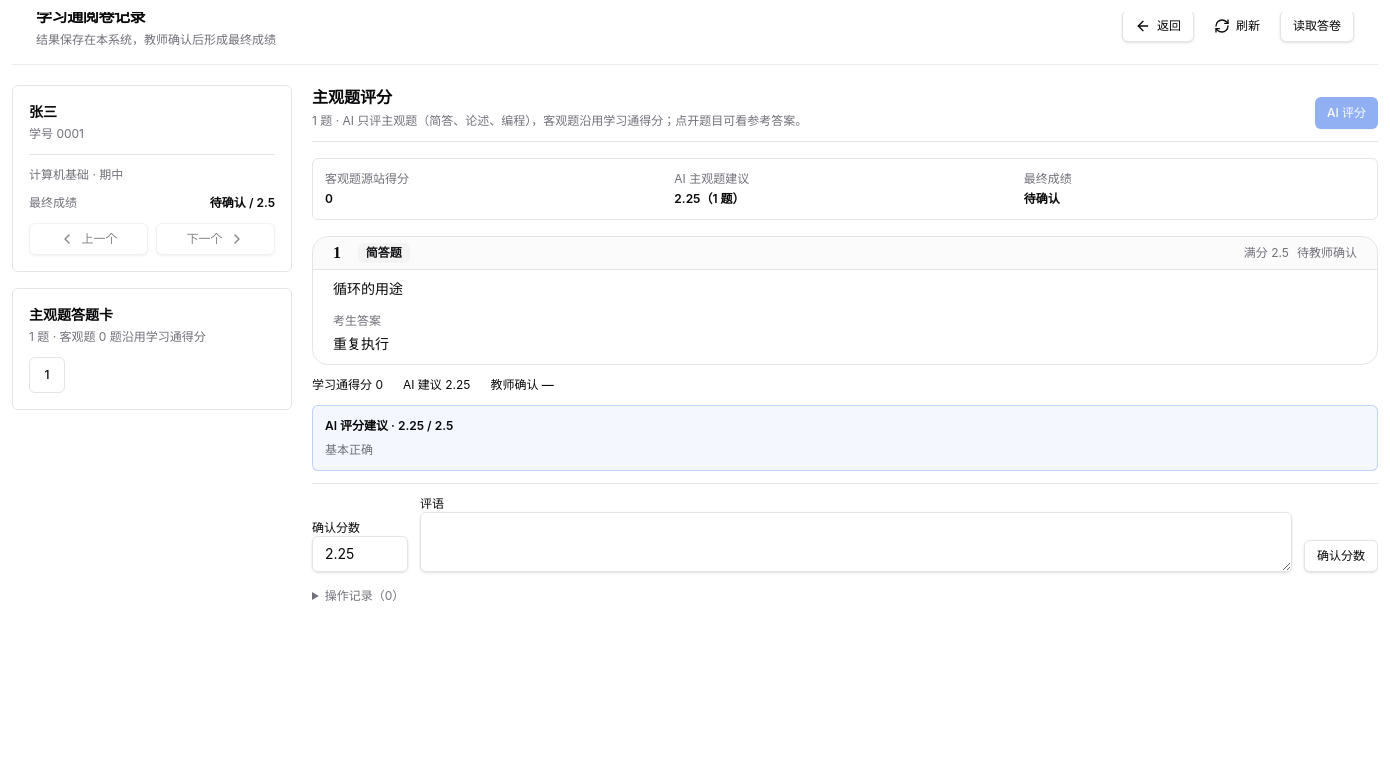
Test: 学习通结果复核 › 不依赖源站会话显示结果，小数确认分保存后才形成最终成绩
The width and height of the screenshot is (1390, 780).
Expected: the element labelled "最终成绩" shows "待确认", [1024,191,1060,206]
Replace the text in the number field named "第 1 题确认分数" with "2.4" at (360, 554), box [312,536,408,572]
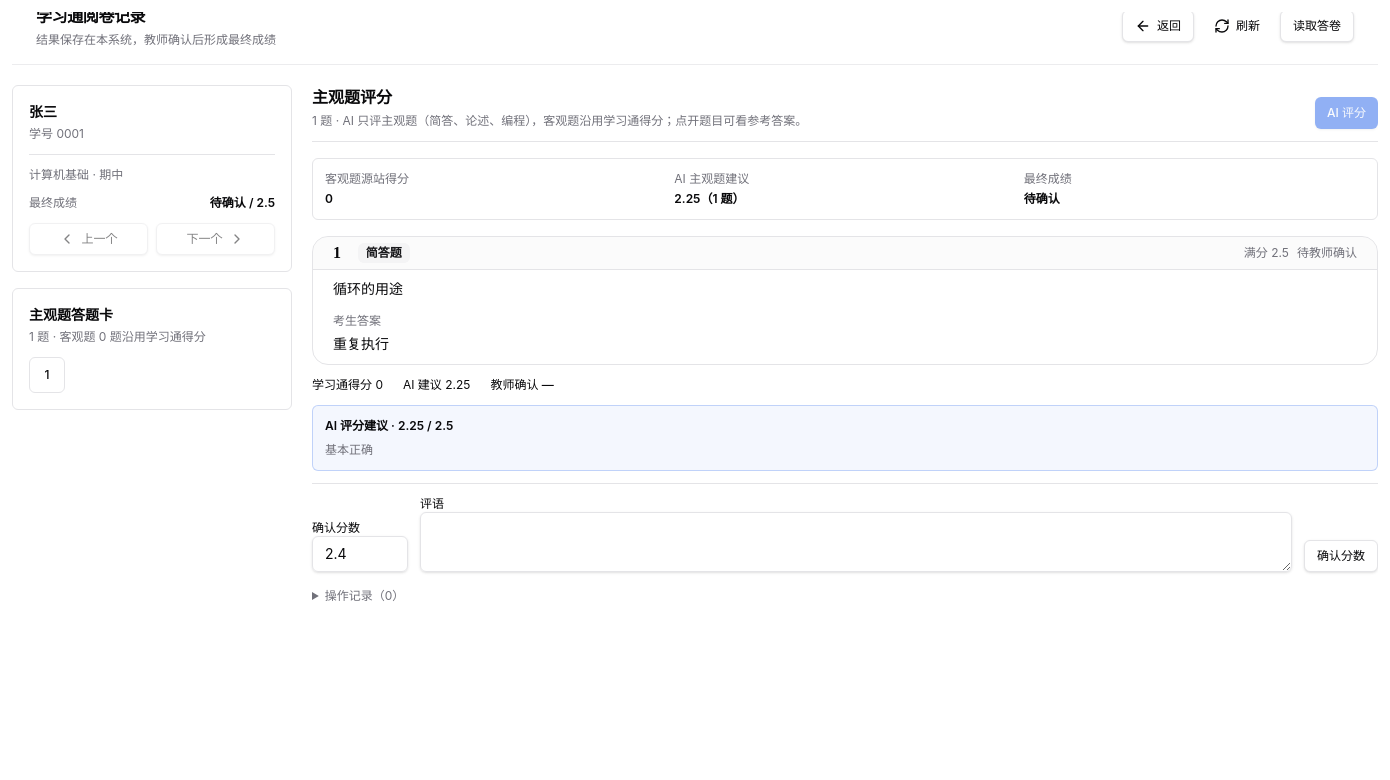
Click the button "确认分数" at (1341, 556), box [1304,540,1378,572]
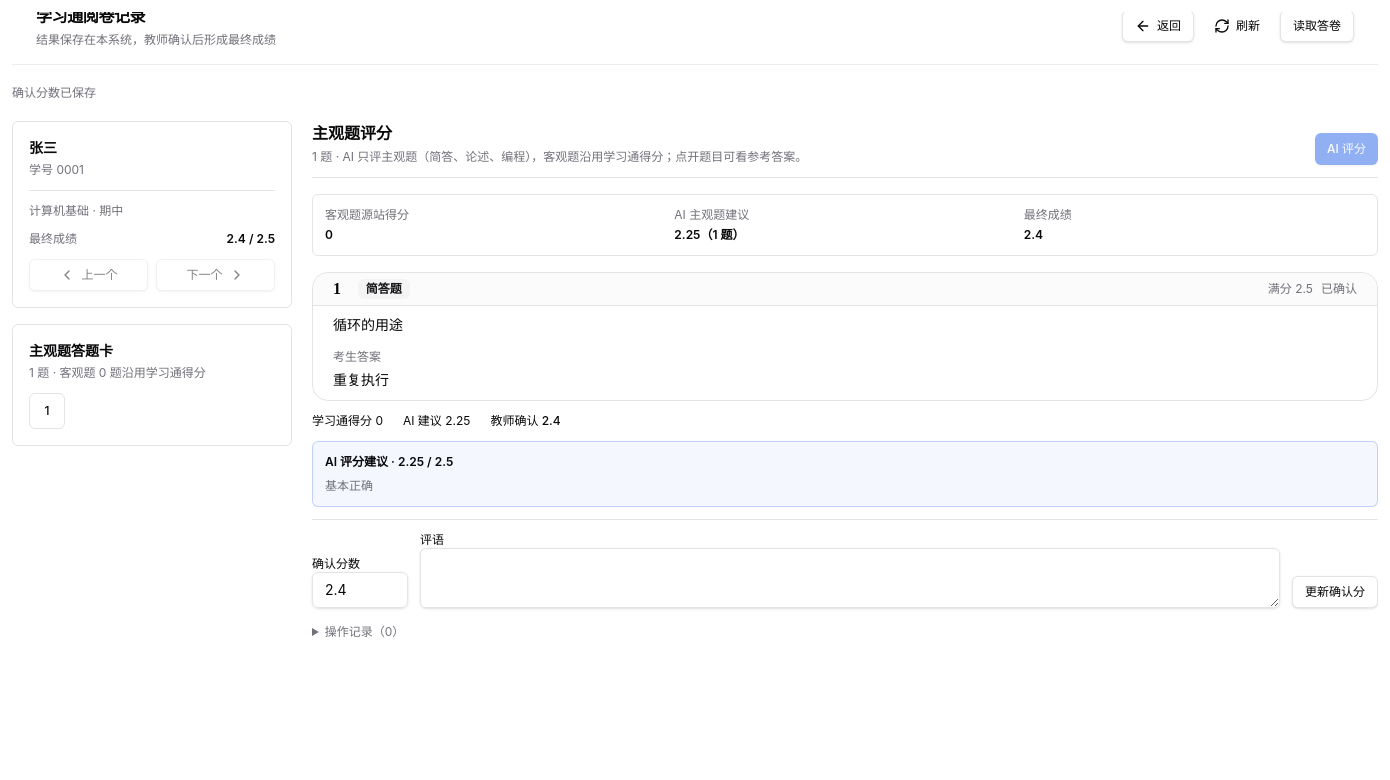
Expected: the element labelled "最终成绩" shows "2.4", [1024,227,1043,242]
